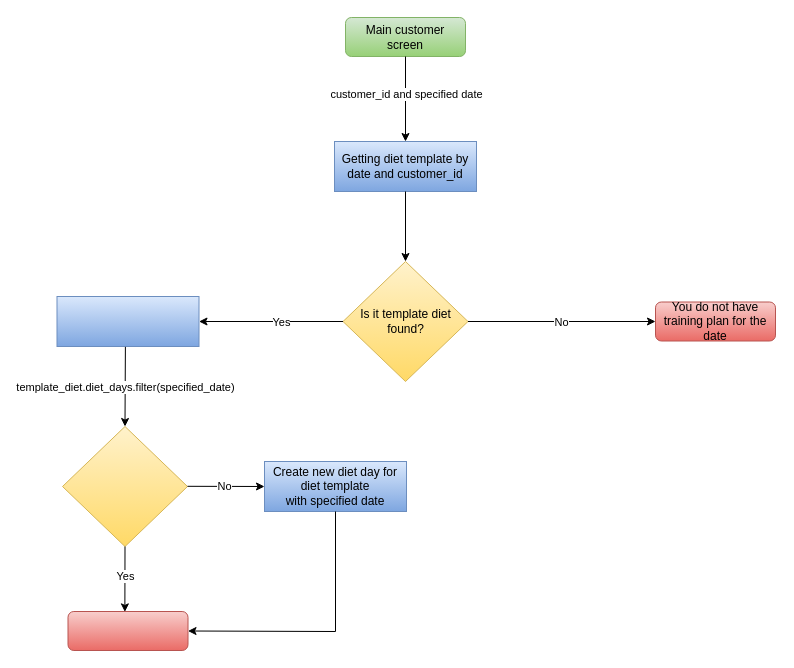
This 794x668 diagram has some shape labels left out. Each missing label, with the centre of its shape:
Getting related daily diet by template diet and specified date: the point at 127,321
Is related diet day found?: the point at 125,486
Return DietDay data: the point at 127,630
